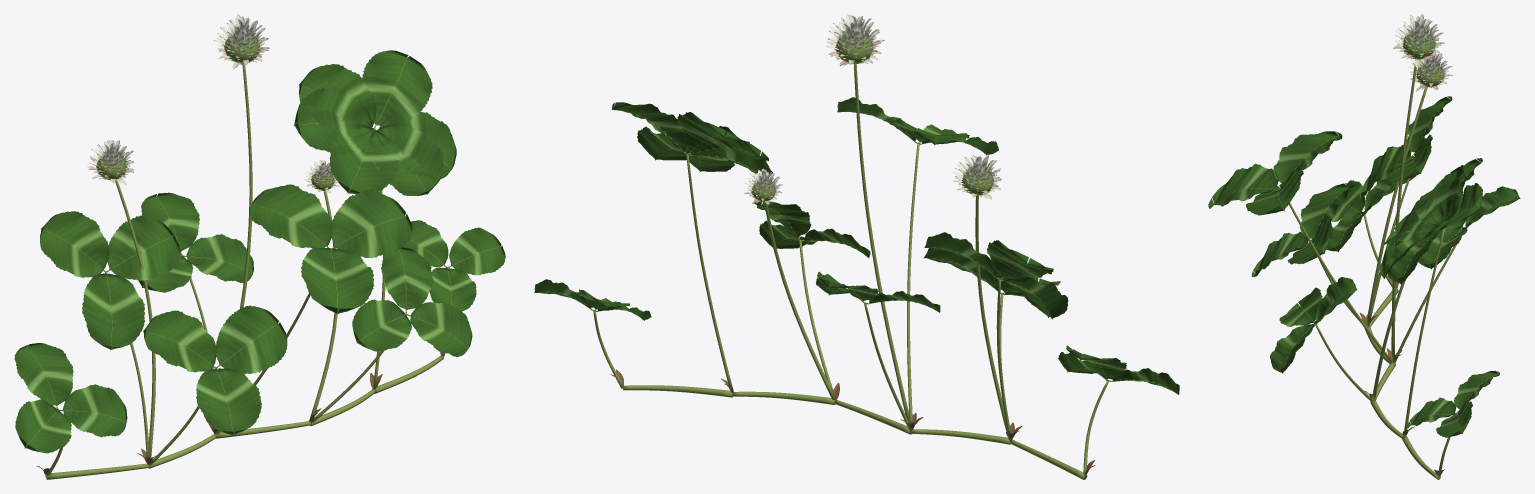
The picture shows the model from 3 angles, left to right: view 1: azimuth 30°, elevation 25°; view 2: azimuth 150°, elevation 25°; view 3: azimuth 270°, elevation 25°; orthographic projection. The views are drawn at different scales.
Parts seen in each view (by area): view 1: Trifoliate foliage, CloverLeafThree, CloverLeafFour, White pea-shaped florets, Flower peduncles, Creeping stolon, Leaf petioles, Flower receptacles; view 2: Trifoliate foliage, Leaf petioles, White pea-shaped florets, Flower peduncles, Creeping stolon, CloverLeafFour, CloverLeafThree, Flower receptacles; view 3: Trifoliate foliage, CloverLeafFour, Leaf petioles, CloverLeafThree, Flower peduncles, White pea-shaped florets, Creeping stolon, Flower receptacles.
Part boxes in pixels (<box>): Trifoliate foliage: <box>14,184,505,453</box>; CloverLeafThree: <box>293,50,443,195</box>; CloverLeafFour: <box>299,64,456,193</box>; White pea-shaped florets: <box>88,14,339,192</box>; Flower peduncles: <box>115,63,337,464</box>; Creeping stolon: <box>46,355,443,479</box>; Leaf petioles: <box>45,129,448,477</box>; Flower receptacles: <box>96,33,334,190</box>; Trifoliate foliage: <box>534,97,1179,394</box>; Leaf petioles: <box>593,143,1109,476</box>; White pea-shaped florets: <box>744,14,1001,204</box>; Flower peduncles: <box>764,64,1012,440</box>; Creeping stolon: <box>622,385,1087,479</box>; CloverLeafFour: <box>637,112,772,175</box>; CloverLeafThree: <box>611,102,768,172</box>; Flower receptacles: <box>751,33,993,201</box>; Trifoliate foliage: <box>1208,96,1520,437</box>; CloverLeafFour: <box>1384,158,1482,284</box>; Leaf petioles: <box>1289,178,1457,479</box>; CloverLeafThree: <box>1379,165,1482,278</box>; Flower peduncles: <box>1366,59,1427,400</box>; White pea-shaped florets: <box>1393,14,1452,91</box>; Creeping stolon: <box>1364,288,1440,479</box>; Flower receptacles: <box>1402,32,1444,87</box>.
Bounding box in the file's own units: 0.2035 × 0.1426 × 0.1092.
7 materials, 1 textured.
